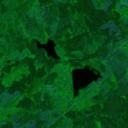alloviz: (70, 65, 102, 98), (34, 39, 62, 61)
